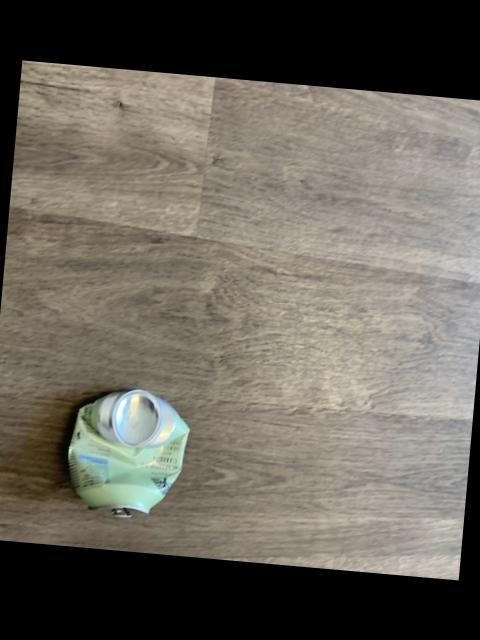metal: (68, 388, 188, 515)
